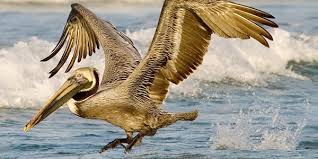pelican: (24, 1, 281, 149)
